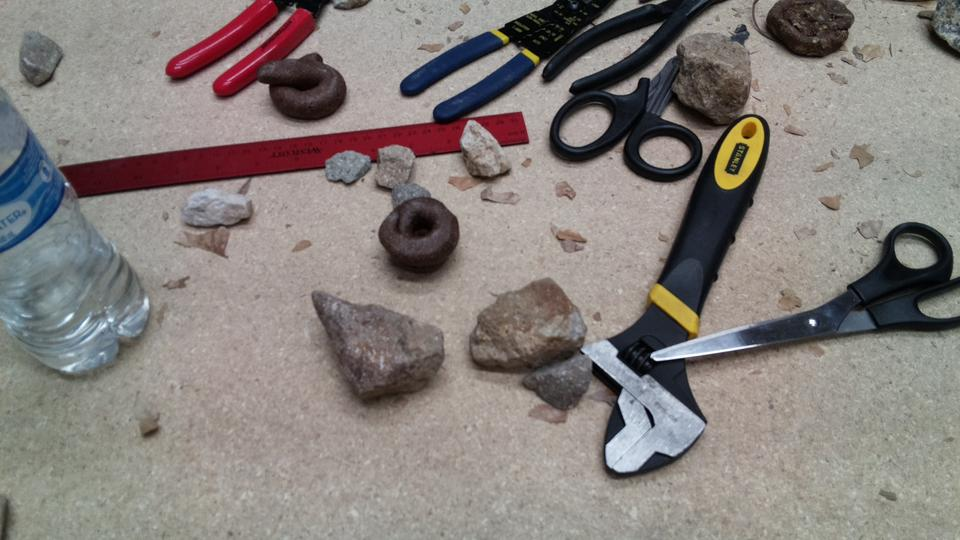poop: (375, 193, 461, 275), (255, 49, 349, 122), (764, 1, 856, 61)
